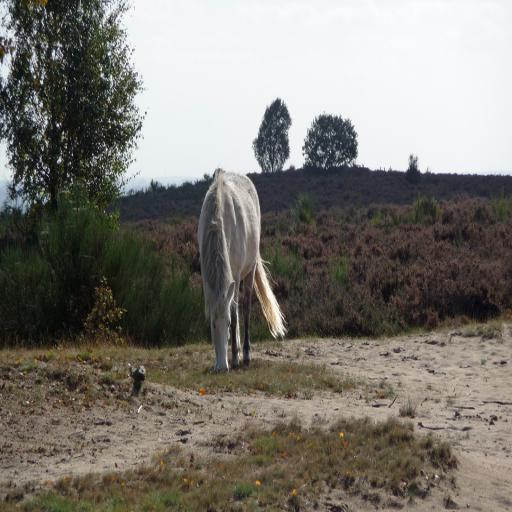horse: (196, 162, 289, 370)
